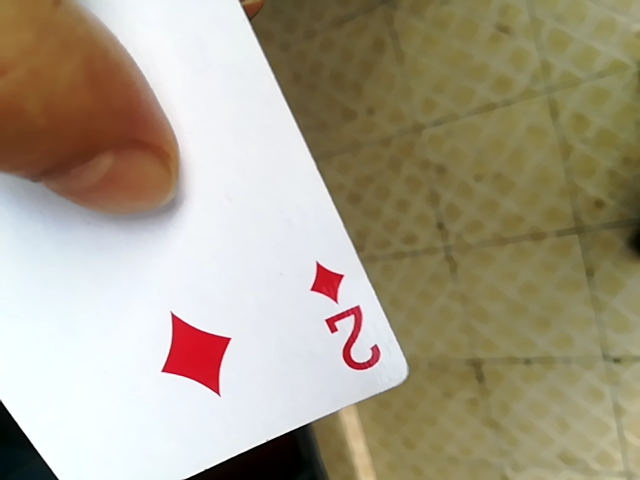fk 2: (0, 3, 422, 479)
